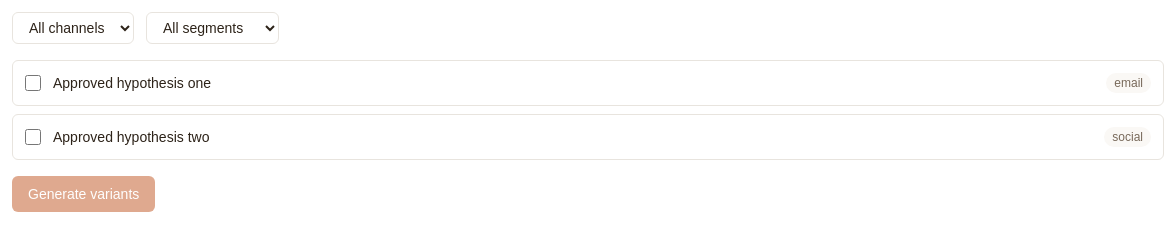
FramePicker › clears filters when clear button is clicked
The image size is (1164, 229).
Select "email" in the 1st dropdown at (73, 28), box [12,12,134,44]
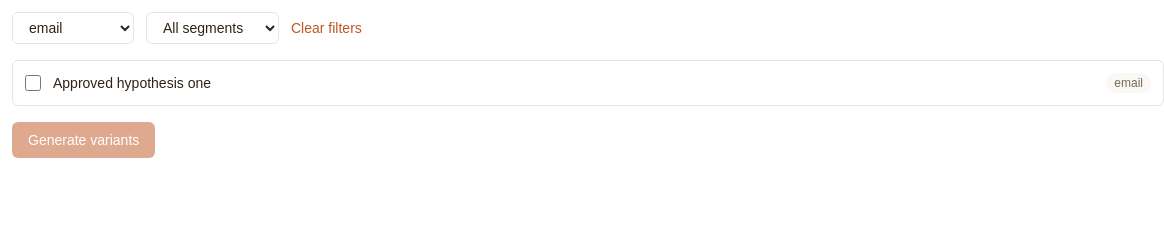
Check: the text "Approved hypothesis two" is gone
Click the button "Clear filters" at (326, 28), box [291,18,362,38]
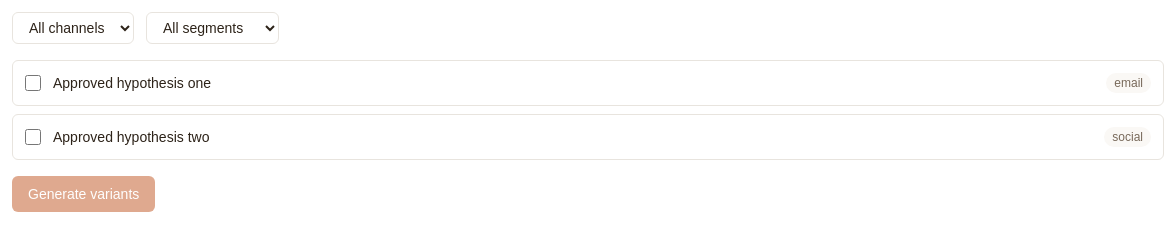
Check: the text "Approved hypothesis one" is shown, box [53,73,211,93]
Check: the text "Approved hypothesis two" is shown, box [53,127,209,147]
